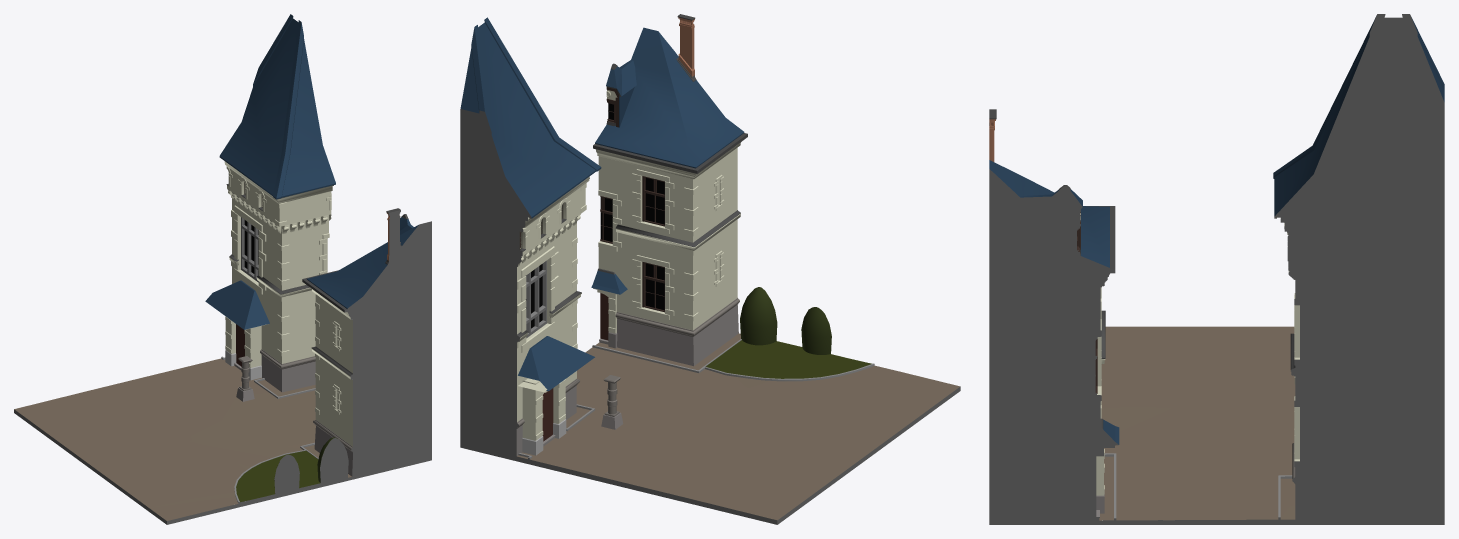
3 renders of one model, left to right at view 1: azimuth 30°, elevation 25°; view 2: azimuth 150°, elevation 25°; view 3: azimuth 270°, elevation 25°, orthographic. The views are drawn at different scales.
Visible parts, largest first — view 1: Plane.005; view 2: Plane.005; view 3: Plane.005.
Part boxes in pixels (x1=…): Plane.005: x1=14, y1=14, x2=431, y2=524; Plane.005: x1=460, y1=14, x2=960, y2=524; Plane.005: x1=989, y1=14, x2=1444, y2=524.
Size of the model in its own units: 4 by 4.95 by 4.
